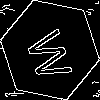W: (25, 25, 81, 84)
